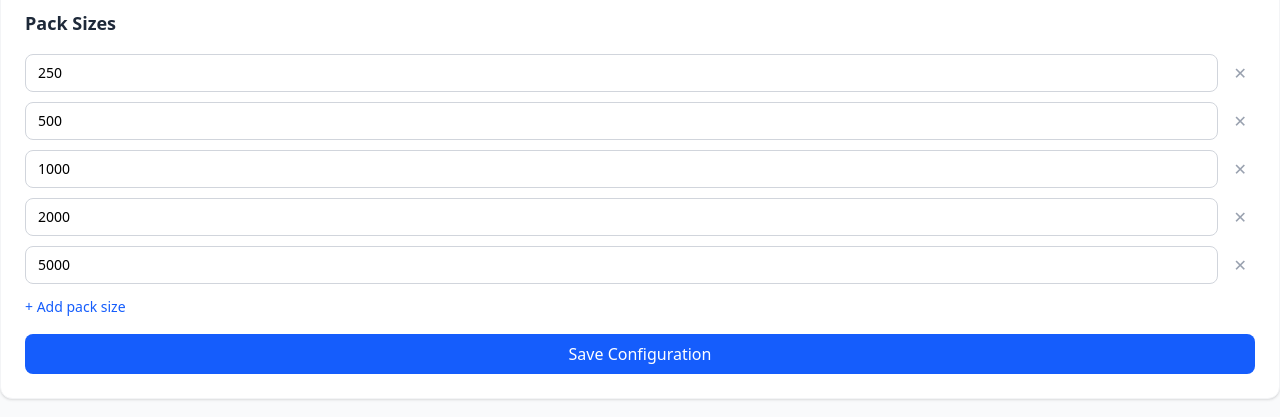
Scenario: allows removing a pack size
The width and height of the screenshot is (1280, 417).
expect the number field showing "250" is shown: met, box [25,54,1218,92]
Click the button named "remove pack size".
click(1240, 73)  # box [1226,53,1255,93]
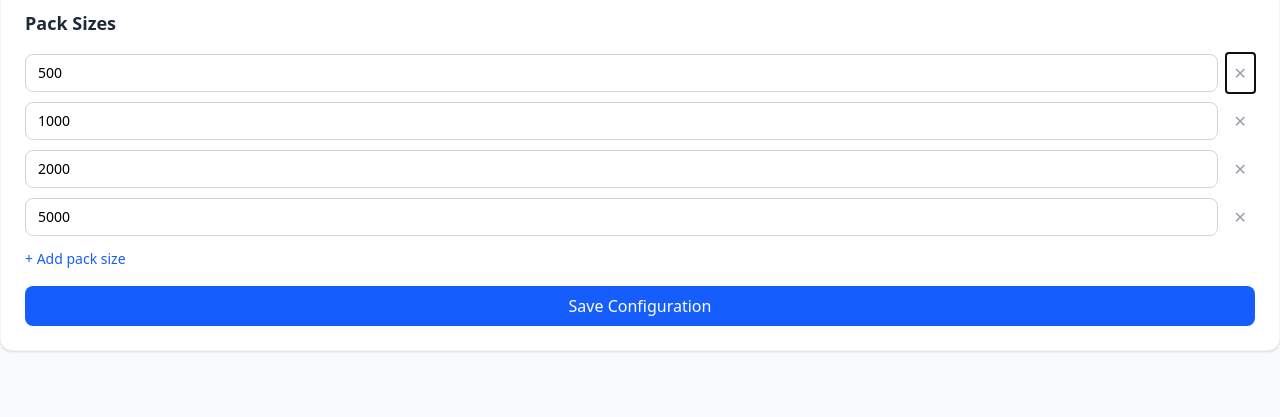
expect the number of number fields is 4: met, box [25,54,1218,92]; [25,102,1218,140]; [25,150,1218,188]; [25,198,1218,236]
